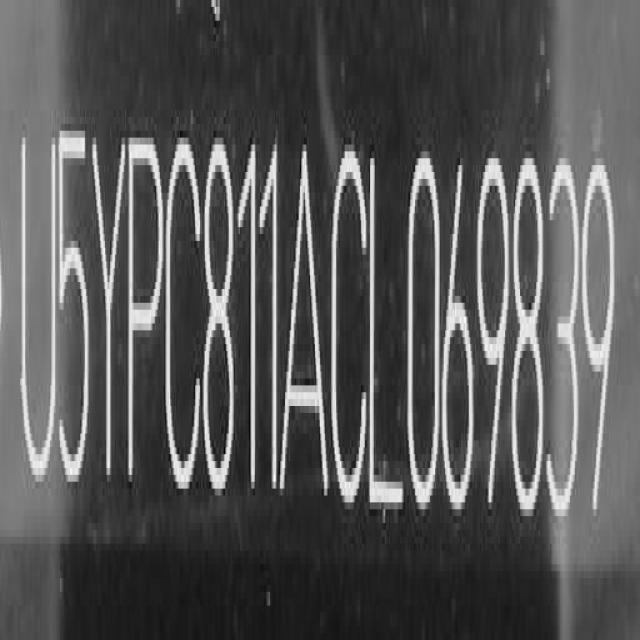0: (408, 154, 442, 520)
1: (258, 142, 280, 512), (238, 138, 259, 504)
3: (546, 153, 582, 528)
5: (54, 128, 90, 503)
6: (444, 154, 476, 527)
8: (512, 152, 546, 522), (204, 139, 236, 512)
9: (584, 161, 619, 537), (478, 154, 510, 524)
A: (283, 137, 330, 510)
C: (330, 146, 370, 519), (166, 135, 201, 510)
L: (369, 148, 405, 522)
P: (131, 124, 166, 511)
U: (19, 111, 55, 496)
Y: (92, 125, 126, 497)
